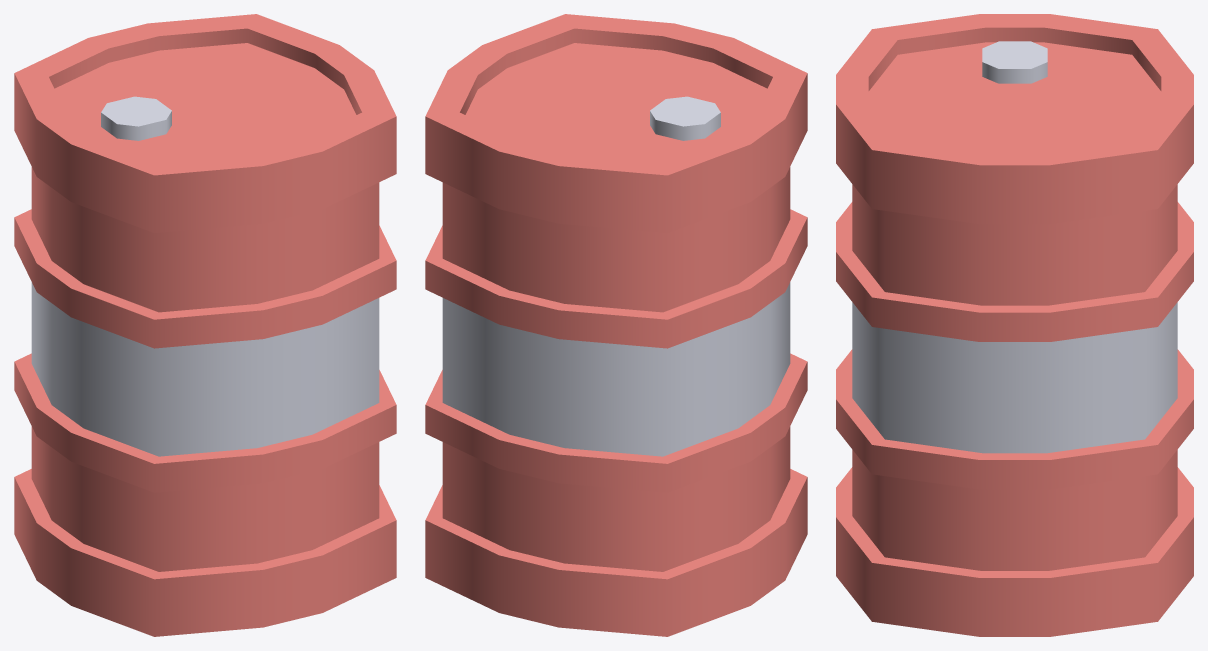
3 renders of one model, left to right at view 1: azimuth 30°, elevation 25°; view 2: azimuth 150°, elevation 25°; view 3: azimuth 270°, elevation 25°, orthographic. The views are drawn at different scales.
Parts seen in each view (by area): view 1: barrel; view 2: barrel; view 3: barrel.
Part boxes in pixels (<box>): barrel: <box>14,14,396,636</box>; barrel: <box>425,14,807,636</box>; barrel: <box>836,14,1193,636</box>.
Bounding box in the file's own units: 0.2365 × 0.344 × 0.2365.
